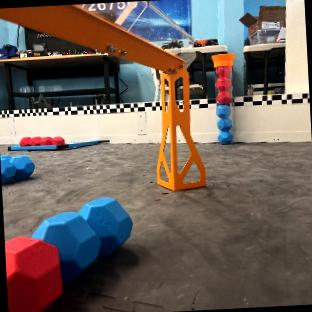Goal: (0, 0, 214, 190)
Parking - B: (8, 139, 108, 150)
V5_BLUE: (33, 197, 131, 281), (0, 155, 34, 184), (216, 105, 231, 142)
V5_RED: (4, 238, 61, 312), (211, 53, 233, 143), (215, 63, 231, 104), (20, 136, 63, 145)
